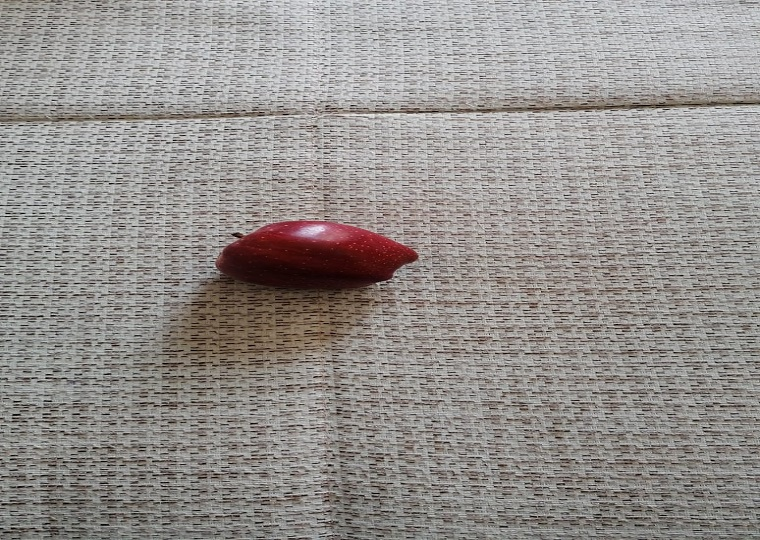elma: (215, 220, 421, 291)
